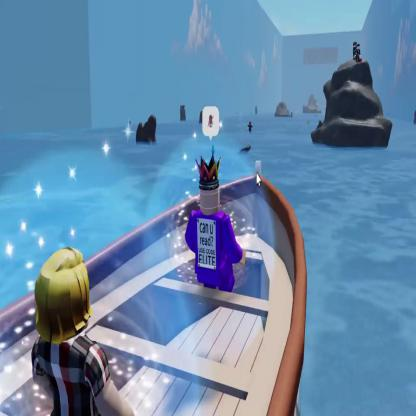Roblox-Avatar: (32, 247, 136, 416), (186, 146, 247, 293), (356, 45, 363, 64)
